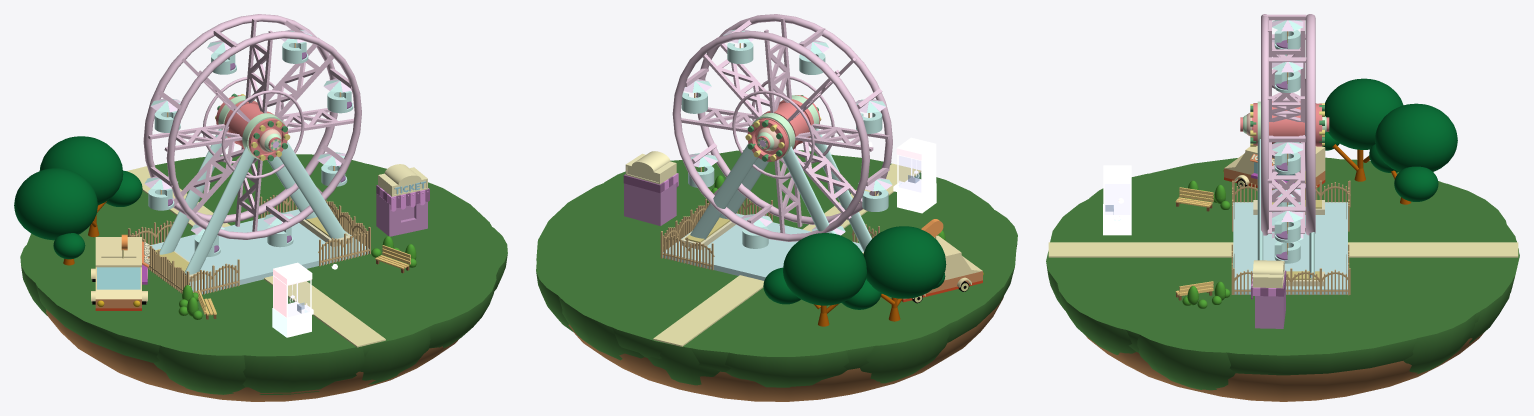
3 renders of one model, left to right at view 1: azimuth 30°, elevation 25°; view 2: azimuth 150°, elevation 25°; view 3: azimuth 270°, elevation 25°, orthographic.
Visible parts, largest first — view 1: hemisphere_10, hemisphere_9, hemisphere_6, hemisphere_5, box_305, circularRing_98, hemisphere_11, hemisphere_4, hemisphere_0, hemisphere_372, hemisphere_7, circularRing_99 (+30 smaller); view 2: hemisphere_10, hemisphere_1, hemisphere_2, hemisphere_0, hemisphere_4, hemisphere_3, hemisphere_11, circularRing_99, hemisphere_359, hemisphere_372, hemisphere_9, box_305 (+30 smaller); view 3: hemisphere_10, hemisphere_4, hemisphere_6, hemisphere_0, hemisphere_9, hemisphere_8, hemisphere_11, box_305, hemisphere_3, hemisphere_359, hemisphere_5, hemisphere_1 (+16 smaller).
Boxes of the visible parts, x1=… form: hemisphere_10: x1=25, y1=155, x2=500, y2=362; hemisphere_9: x1=95, y1=205, x2=449, y2=394; hemisphere_6: x1=231, y1=217, x2=496, y2=348; hemisphere_5: x1=128, y1=283, x2=325, y2=394; box_305: x1=150, y1=209, x2=368, y2=294; circularRing_98: x1=166, y1=31, x2=361, y2=239; hemisphere_11: x1=46, y1=309, x2=458, y2=401; hemisphere_4: x1=96, y1=155, x2=435, y2=304; hemisphere_0: x1=198, y1=154, x2=384, y2=223; hemisphere_372: x1=14, y1=168, x2=97, y2=222; hemisphere_7: x1=218, y1=284, x2=440, y2=384; circularRing_99: x1=143, y1=14, x2=337, y2=223; hemisphere_10: x1=536, y1=153, x2=1016, y2=372; hemisphere_1: x1=612, y1=269, x2=843, y2=385; hemisphere_2: x1=749, y1=287, x2=962, y2=383; hemisphere_0: x1=536, y1=223, x2=722, y2=332; hemisphere_4: x1=547, y1=193, x2=891, y2=360; hemisphere_3: x1=650, y1=261, x2=913, y2=387; hemisphere_11: x1=568, y1=297, x2=1003, y2=401; circularRing_99: x1=672, y1=31, x2=869, y2=241; hemisphere_359: x1=783, y1=233, x2=866, y2=288; hemisphere_372: x1=863, y1=226, x2=946, y2=281; hemisphere_9: x1=646, y1=162, x2=1005, y2=303; box_305: x1=663, y1=213, x2=863, y2=280; hemisphere_10: x1=1047, y1=157, x2=1519, y2=375; hemisphere_4: x1=1171, y1=191, x2=1515, y2=343; hemisphere_6: x1=1057, y1=223, x2=1324, y2=354; hemisphere_0: x1=1285, y1=257, x2=1483, y2=374; hemisphere_9: x1=1050, y1=170, x2=1403, y2=319; hemisphere_8: x1=1134, y1=264, x2=1298, y2=390; hemisphere_11: x1=1085, y1=332, x2=1484, y2=401; box_305: x1=1233, y1=202, x2=1347, y2=294; hemisphere_3: x1=1315, y1=175, x2=1508, y2=281; hemisphere_359: x1=1375, y1=103, x2=1457, y2=157; hemisphere_5: x1=1083, y1=170, x2=1257, y2=258; hemisphere_1: x1=1348, y1=202, x2=1518, y2=269.
Bounding box in the file's own units: 66 × 51.04 × 66.17.
